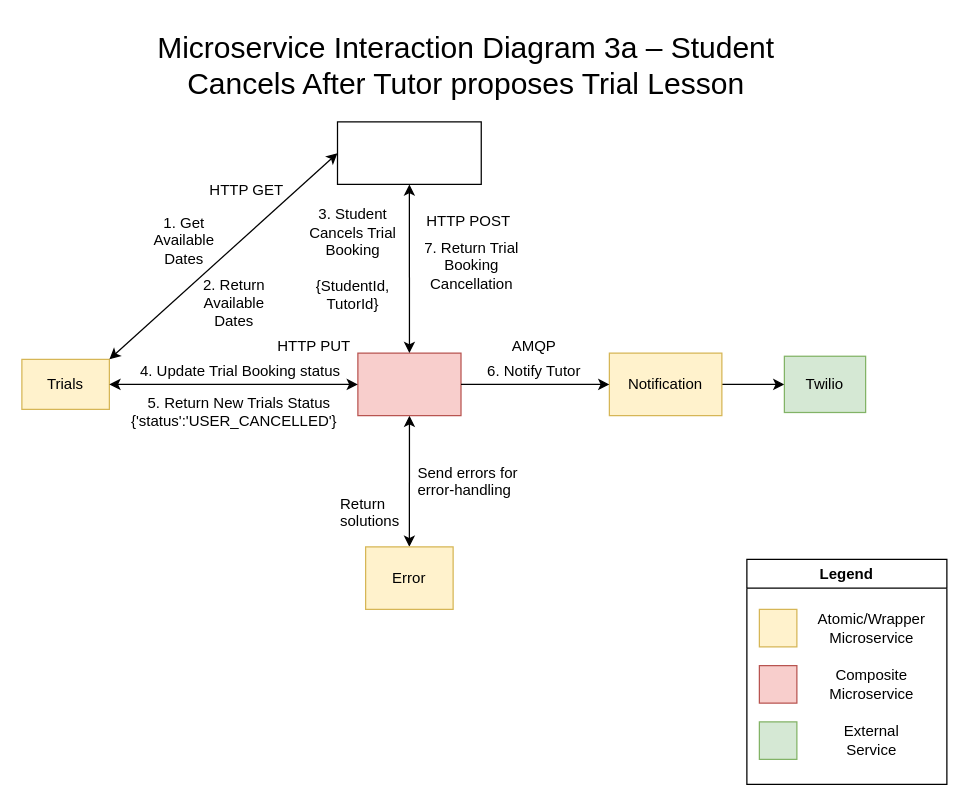
Image size: 969x806. Some labels were removed from this diagram. The shapes that lost their labels are listed below. From the top down, each one's centre as x and y in pixels, then its label:
At point 408,152: "Student UI".
At point 409,384: "Cancels Trial Booking".
